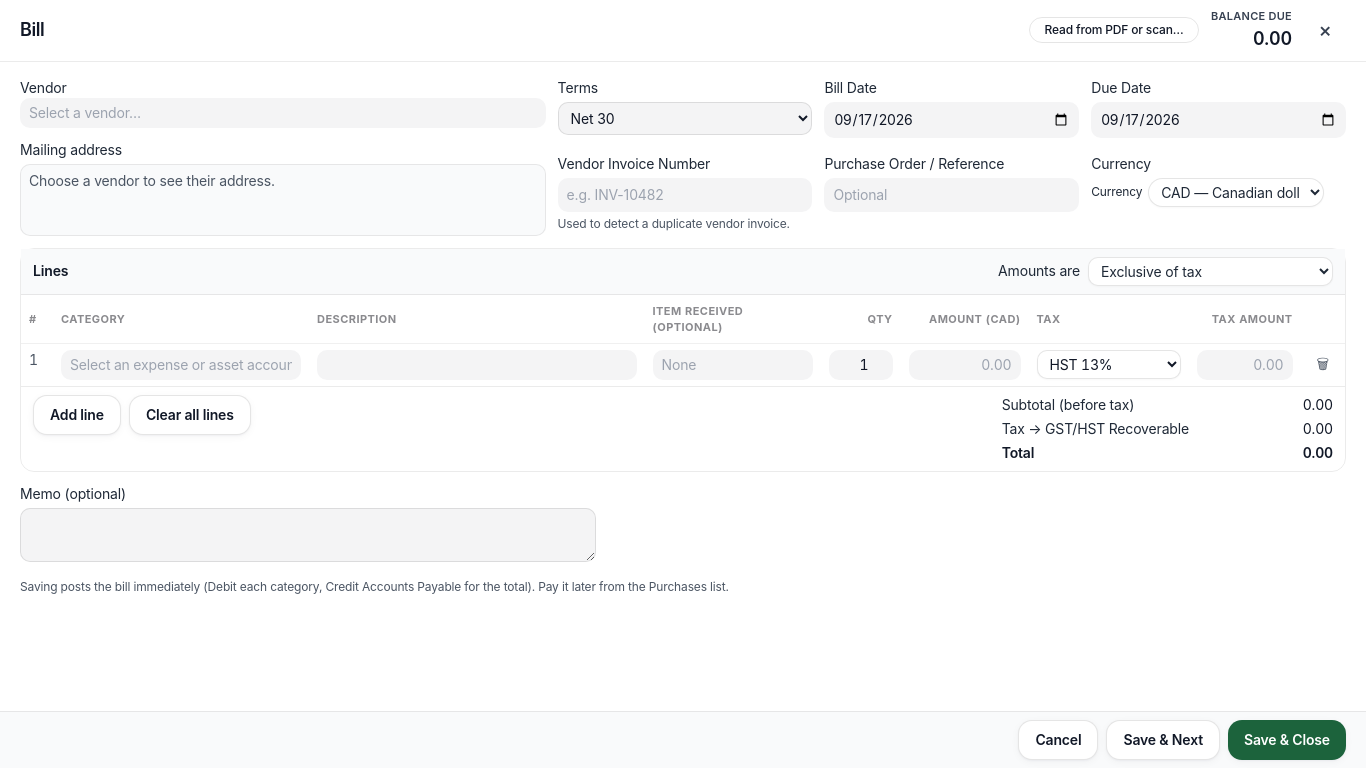
entering a bill from a receipt that shows the total and the tax › keeps the typed total and tax and derives the base — no formula overrides the tax
Step 1. Select "Inclusive of tax (as on a receipt)" in the dropdown labelled "Amounts are" → (1210, 271), box [1088,256,1333,286]
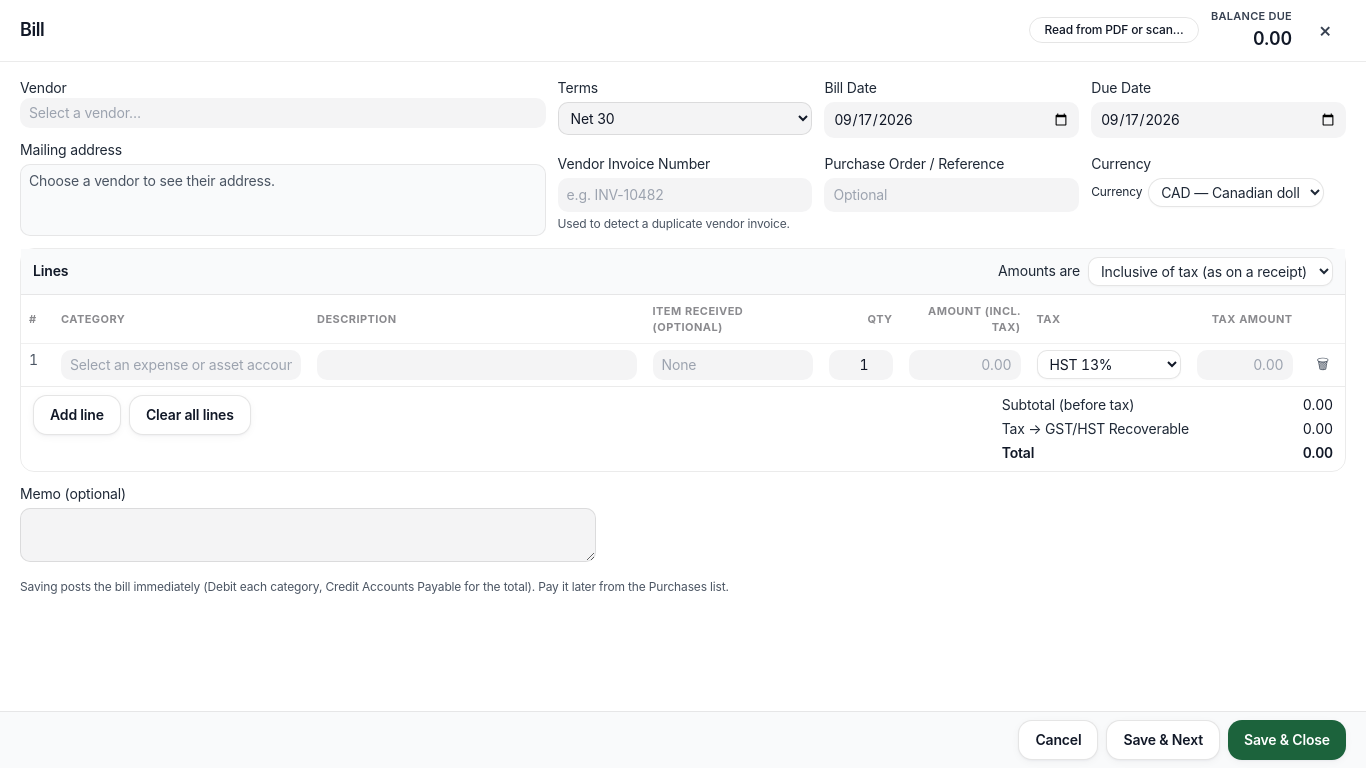
Step 2. Type "137.50" into the field named "Line 1 amount" → (964, 364), box [908,350,1020,380]
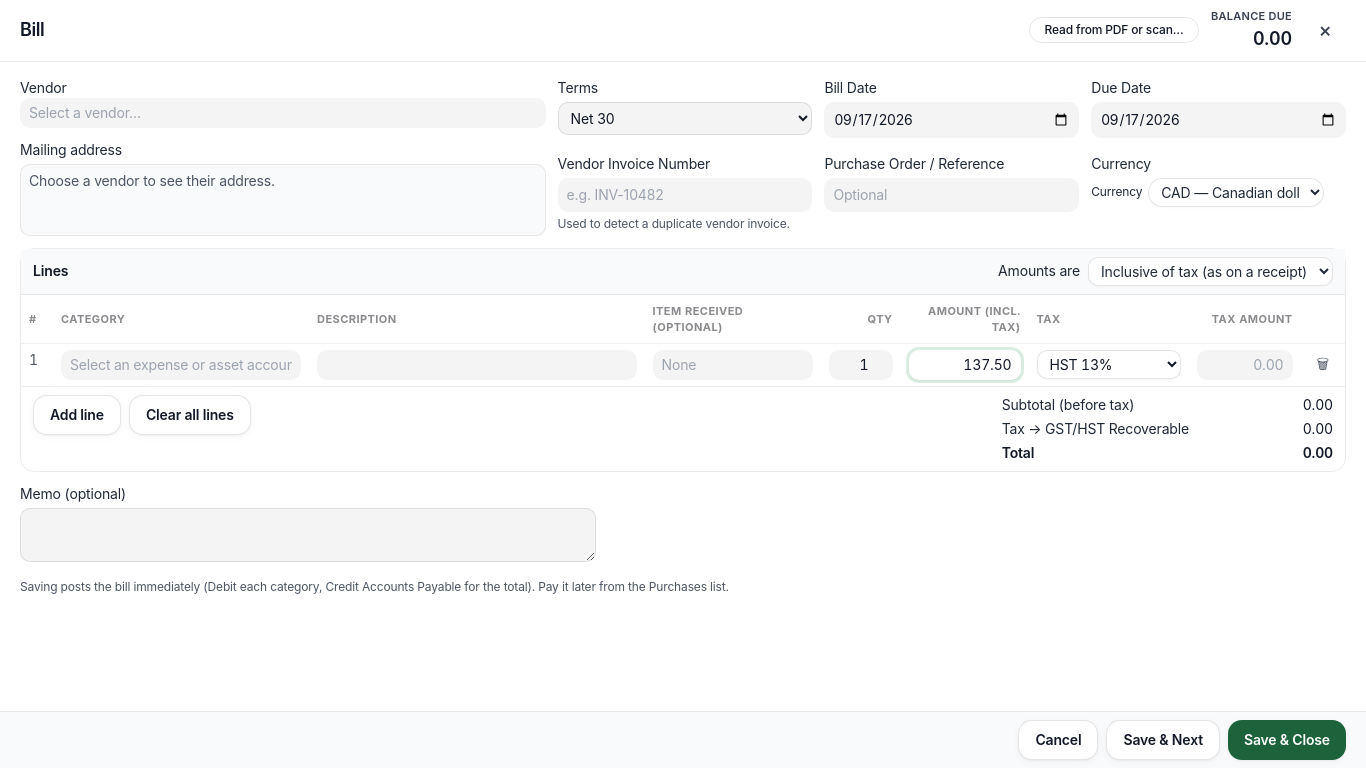
Step 3. Press Tab
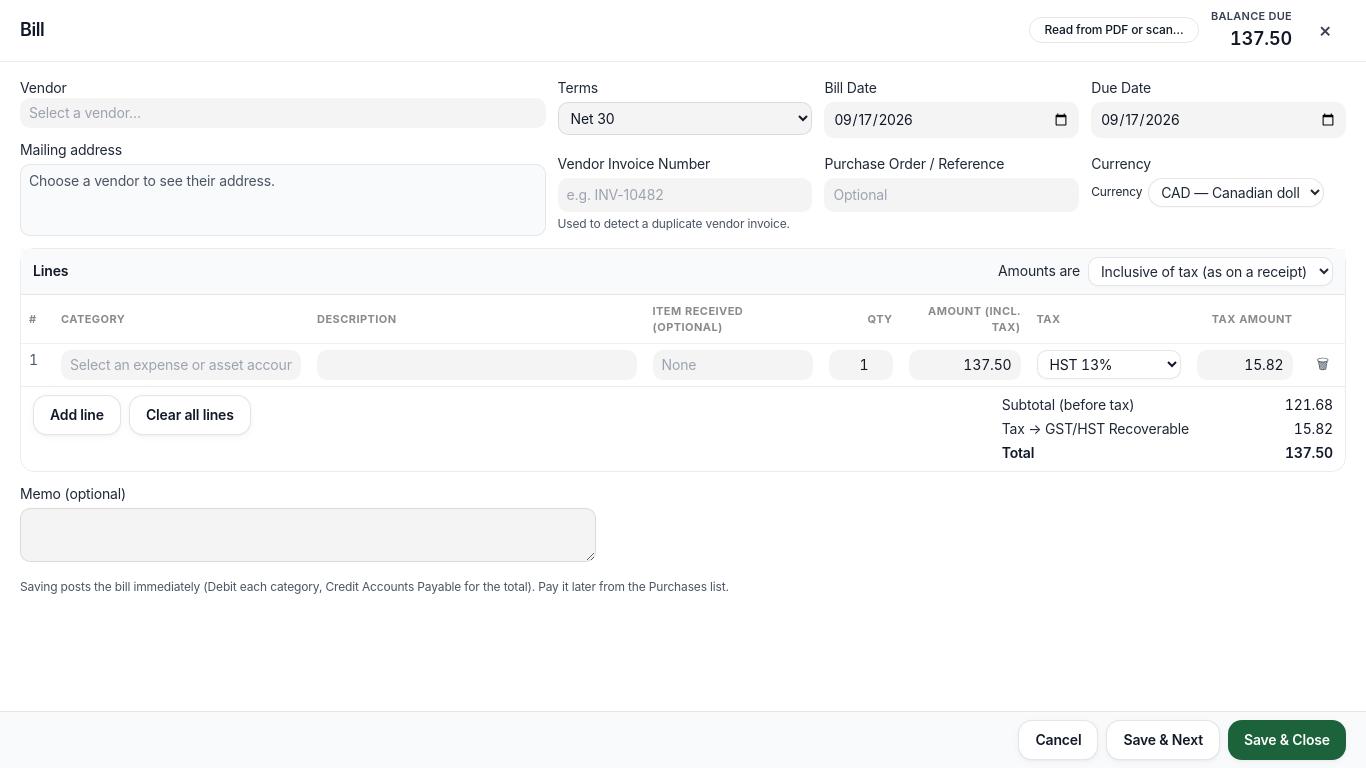
Step 4. Replace the text in the field named "Line 1 tax amount" with "5.72" → (1244, 364), box [1196,350,1292,380]
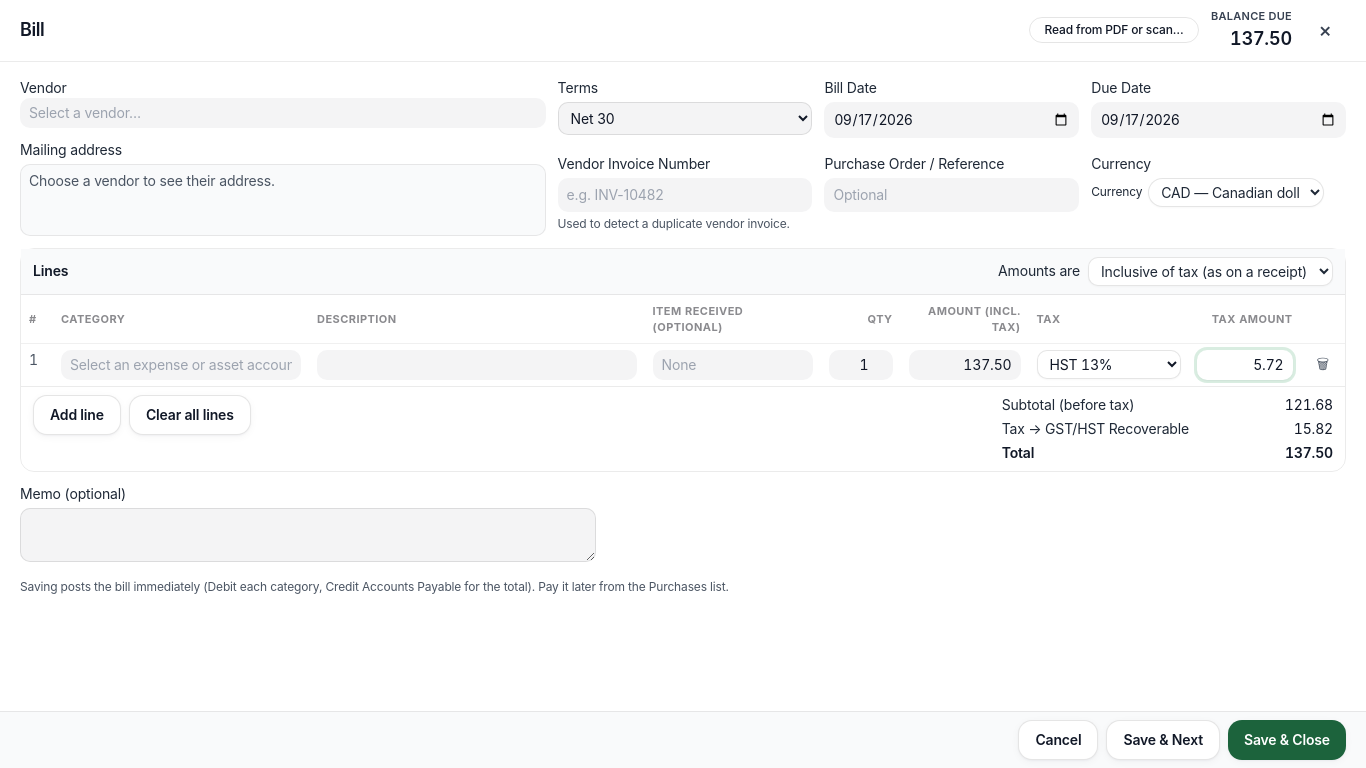
Step 5. Press Tab
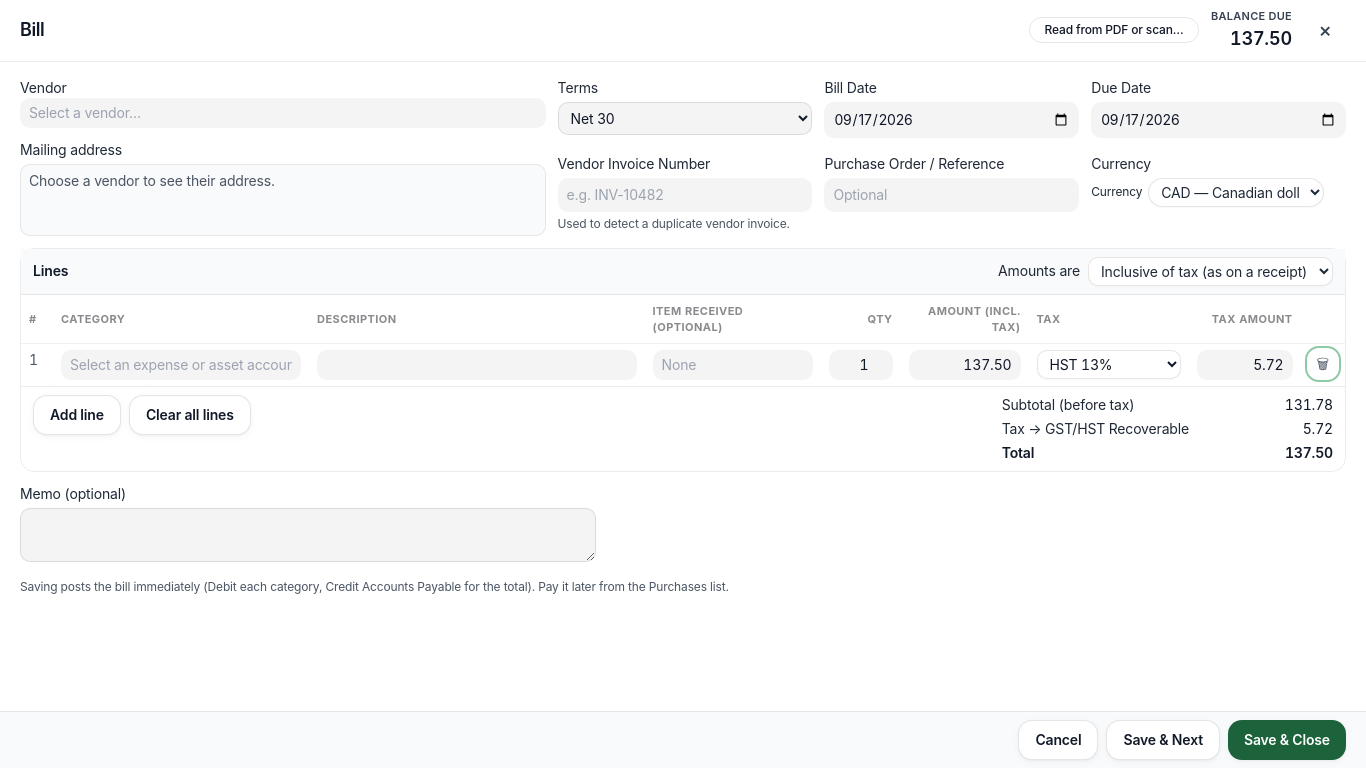
Now the element with test id "bill-total" reads "137.50", box [1285,444,1333,460]
Now the element with test id "bill-subtotal" reads "131.78", box [1285,396,1333,412]
Now the element with test id "bill-tax" reads "5.72", box [1303,420,1333,436]
